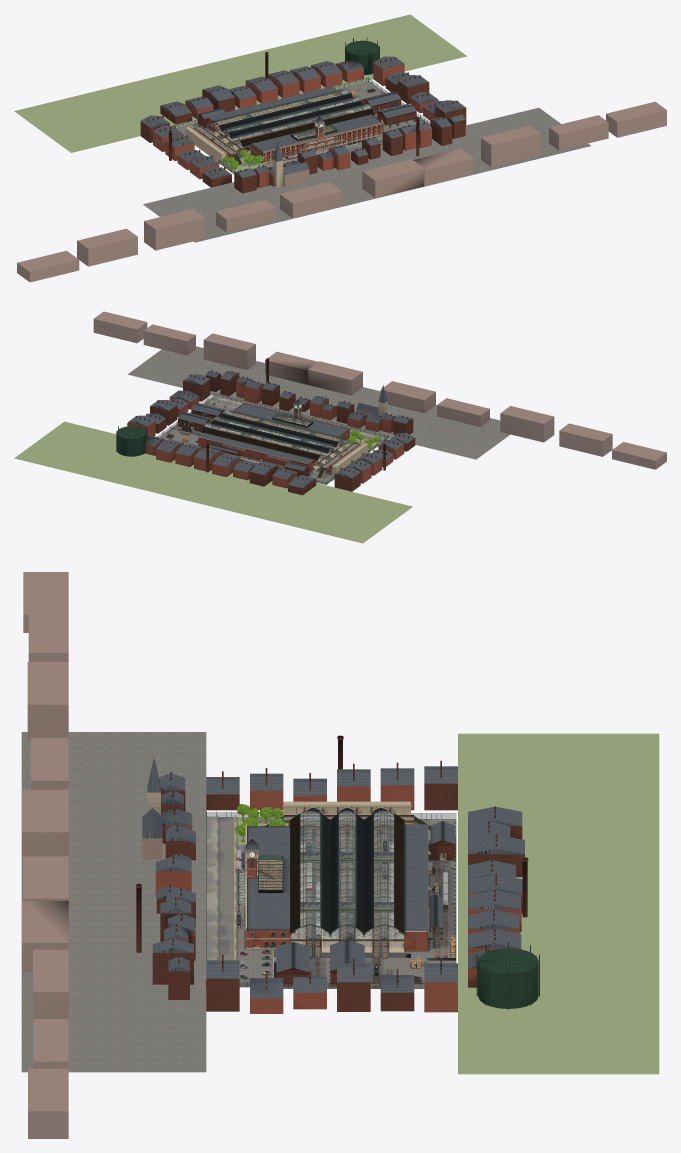
File: railway.glb
The picture shows the model from 3 angles, top to bottom: view 1: azimuth 30°, elevation 25°; view 2: azimuth 150°, elevation 25°; view 3: azimuth 270°, elevation 25°; orthographic projection. The views are drawn at different scales.
Parts seen in each view (by area): view 1: backdrop_far_build, backdrop_grass, backdrop_cobbles, backdrop_slate, backdrop_brick_dark, backdrop_brick, roof_roof_glass, hall_slate, hall_iron, ground_cobbles, building_brick, building_slate (+8 smaller); view 2: backdrop_grass, backdrop_far_build, backdrop_cobbles, backdrop_slate, backdrop_brick_dark, backdrop_brick, roof_roof_glass, hall_iron, hall_slate, ground_cobbles, building_slate, backdrop_iron (+8 smaller); view 3: backdrop_grass, backdrop_cobbles, backdrop_far_build, backdrop_slate, backdrop_brick_dark, ground_cobbles, roof_roof_glass, backdrop_brick, hall_iron, hall_slate, backdrop_iron, building_slate (+13 smaller).
Part boxes in pixels (x1,y1,x2,y2): backdrop_far_build: [17, 101, 666, 282]; backdrop_grass: [14, 14, 466, 152]; backdrop_cobbles: [143, 107, 590, 242]; backdrop_slate: [141, 56, 465, 178]; backdrop_brick_dark: [140, 52, 466, 193]; backdrop_brick: [153, 62, 438, 188]; roof_roof_glass: [211, 89, 370, 150]; hall_slate: [219, 93, 363, 137]; hall_iron: [210, 88, 374, 149]; ground_cobbles: [176, 81, 426, 167]; building_brick: [250, 114, 383, 162]; building_slate: [251, 114, 381, 151]; backdrop_grass: [14, 421, 412, 543]; backdrop_far_build: [93, 311, 666, 469]; backdrop_cobbles: [127, 346, 510, 459]; backdrop_slate: [128, 370, 414, 488]; backdrop_brick_dark: [135, 358, 415, 495]; backdrop_brick: [128, 380, 404, 488]; roof_roof_glass: [202, 409, 345, 461]; hall_iron: [201, 409, 346, 462]; hall_slate: [211, 413, 338, 452]; ground_cobbles: [159, 398, 384, 484]; building_slate: [234, 399, 349, 436]; backdrop_iron: [116, 423, 147, 456]; backdrop_grass: [458, 733, 659, 1074]; backdrop_cobbles: [21, 732, 206, 1072]; backdrop_far_build: [22, 572, 162, 1138]; backdrop_slate: [142, 756, 524, 998]; backdrop_brick_dark: [136, 735, 528, 1011]; ground_cobbles: [218, 816, 456, 988]; roof_roof_glass: [239, 811, 403, 938]; backdrop_brick: [155, 785, 522, 1013]; hall_iron: [289, 810, 404, 939]; hall_slate: [320, 814, 373, 932]; backdrop_iron: [476, 941, 539, 1009]; building_slate: [245, 826, 289, 929].
Size of the model in its own units: 773 by 60.2 by 380.
80 materials, 26 textured.
